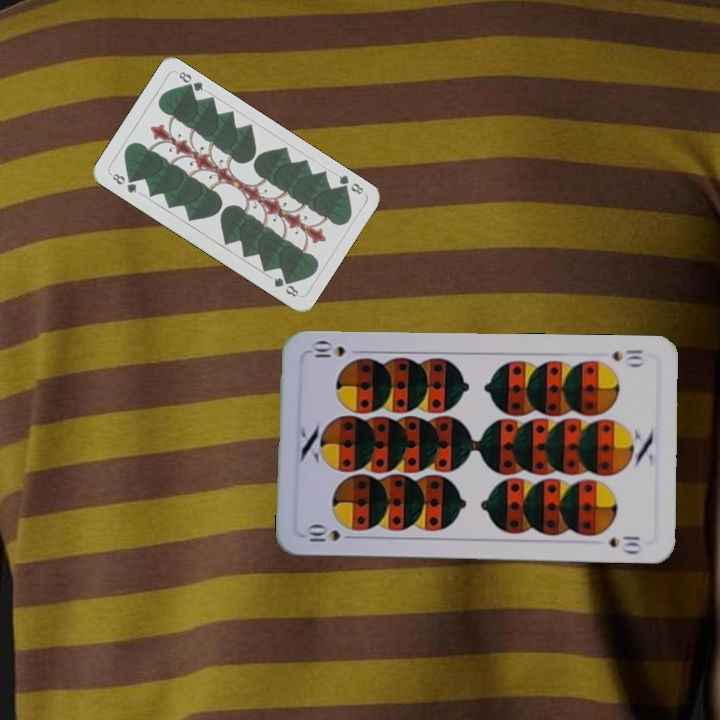G8: (106, 169, 139, 196), (333, 171, 366, 197)
S10: (303, 523, 359, 544), (608, 345, 647, 369)
